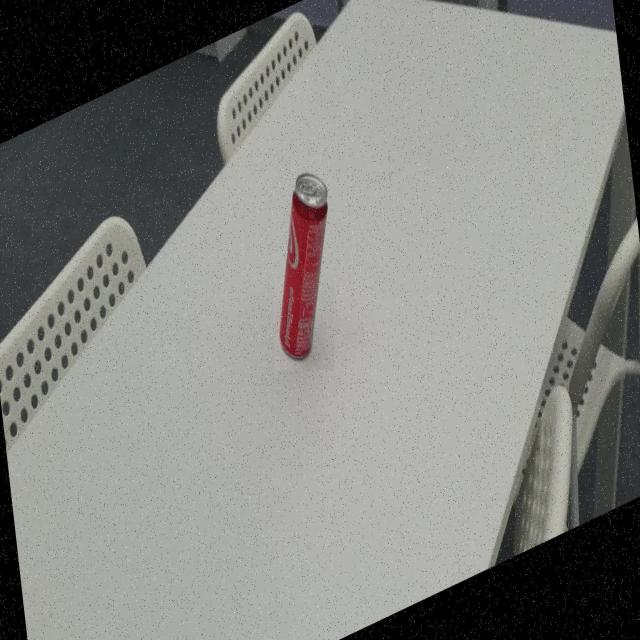coca-cola: (274, 158, 334, 370)
